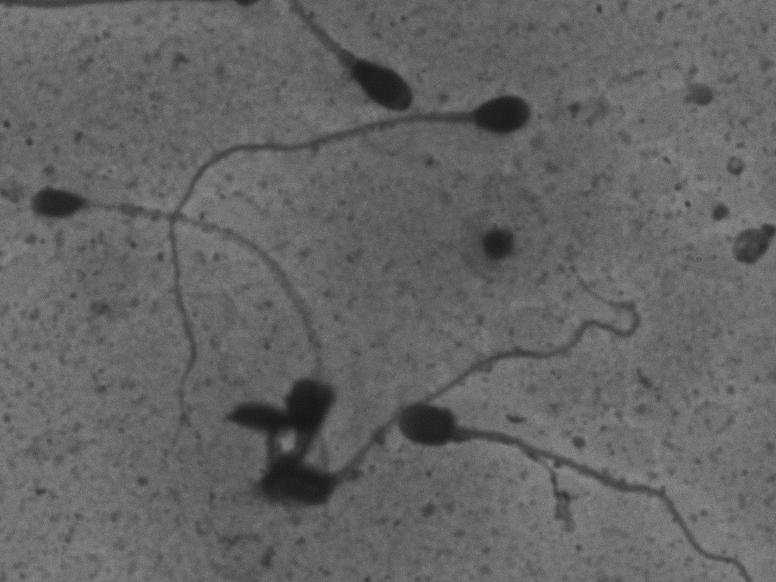Abnormal: (23, 166, 352, 388), (391, 393, 756, 579), (295, 3, 441, 117)
Normal: (159, 79, 544, 452)
